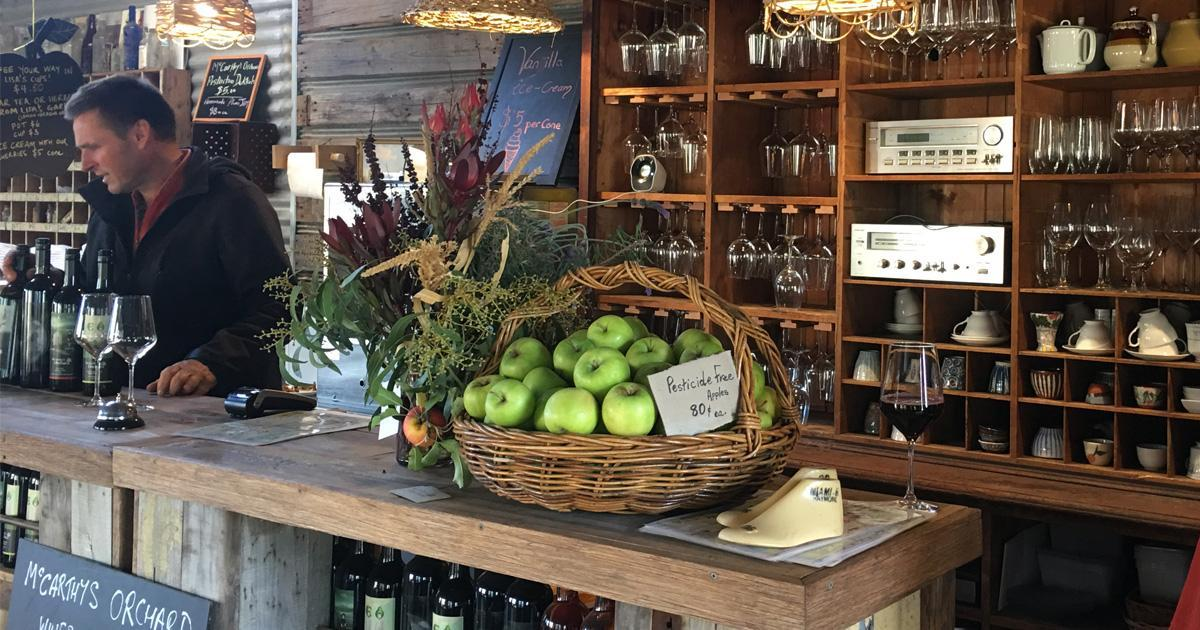apple: (601, 380, 658, 436), (572, 346, 632, 397), (544, 388, 599, 435), (485, 380, 535, 424), (501, 338, 550, 377)
